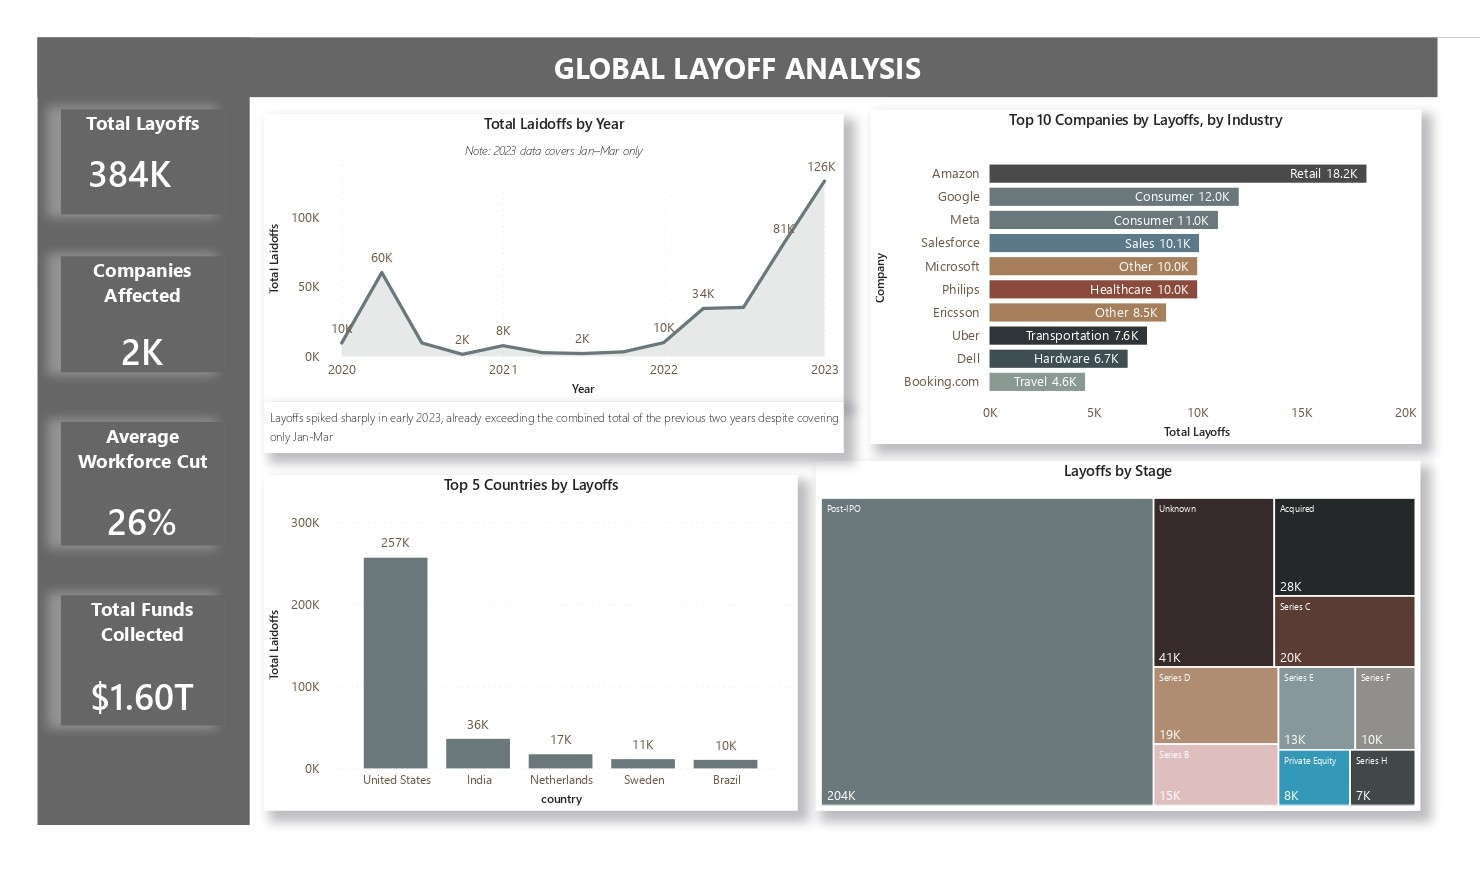

This screenshot's page, from the dashboard's own definition file:
{"tool":"powerbi","page":{"name":"Layoffs Executive Overview","canvas":[1280,720],"ordinal":0},"visuals":[{"type":"shape","box":[0,0,194.4,720],"z":0},{"type":"shape","box":[0,0,1280,54.5],"z":1000},{"type":"cardVisual","title":"Total Layoffs","fields":{"Data":["public layoffs_nd.Total_Layoffs"]},"box":[21.4,65.8,150,96.5],"z":2000},{"type":"cardVisual","title":"Total Funds Collected","fields":{"Data":["public layoffs_nd.Total Funding Raised"]},"box":[21.7,510,149.2,118.6],"z":3000},{"type":"cardVisual","title":"Average Workforce Cut","fields":{"Data":["public layoffs_nd.Average Workforce Cut"]},"box":[21.7,351,149.2,113.5],"z":4000},{"type":"cardVisual","title":"Companies Affected","fields":{"Data":["public layoffs_nd.Companies Affected"]},"box":[21.7,199.7,149.2,105.8],"z":5000},{"type":"lineChart","title":"Total Laidoffs by Year ","fields":{"Category":["public layoffs_nd.date.Variation.Date Hierarchy.Year","public layoffs_nd.date.Variation.Date Hierarchy.Quarter","public layoffs_nd.date.Variation.Date Hierarchy.Month","public layoffs_nd.date.Variation.Date Hierarchy.Day"],"Y":["Sum(public layoffs_nd.total_laid_off)"]},"box":[206.5,70.1,530.4,262.6],"z":6000},{"type":"barChart","title":"Top 10 Companies by Layoffs, by Industry","fields":{"Category":["public layoffs_nd.company"],"Series":["public layoffs_nd.industry"],"Y":["Sum(public layoffs_nd.total_laid_off)"]},"box":[761,65.8,503.7,306.2],"z":7000},{"type":"clusteredColumnChart","title":"Top 5 Countries by Layoffs","fields":{"Category":["public layoffs_nd.country"],"Y":["Sum(public layoffs_nd.total_laid_off)"]},"box":[206.5,400.3,488.3,307.3],"z":8000},{"type":"treemap","title":"Layoffs by Stage","fields":{"Group":["public layoffs_nd.stage"],"Values":["public layoffs_nd.Total_Layoffs"]},"box":[711.4,387.6,553.3,320],"z":9000},{"type":"textbox","box":[280.5,88,383.7,51],"z":10000},{"type":"textbox","box":[206.5,332.7,530.4,47.2],"z":11000}]}

Visuals, with their boxes in screenshot pixels (x1, y1, x2, y2):
shape: 31 31 245 823
shape: 31 31 1439 91
"Total Layoffs" cardVisual: 54 103 219 209
"Total Funds Collected" cardVisual: 55 592 219 722
"Average Workforce Cut" cardVisual: 55 417 219 542
"Companies Affected" cardVisual: 55 250 219 367
"Total Laidoffs by Year " lineChart: 258 108 841 397
"Top 10 Companies by Layoffs, by Industry" barChart: 868 103 1422 440
"Top 5 Countries by Layoffs" clusteredColumnChart: 258 471 795 809
"Layoffs by Stage" treemap: 813 457 1422 809
textbox: 339 128 761 184
textbox: 258 397 841 449
